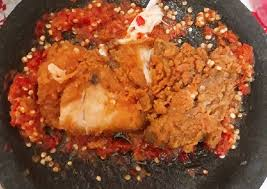ayam_geprek: (32, 15, 252, 160)
